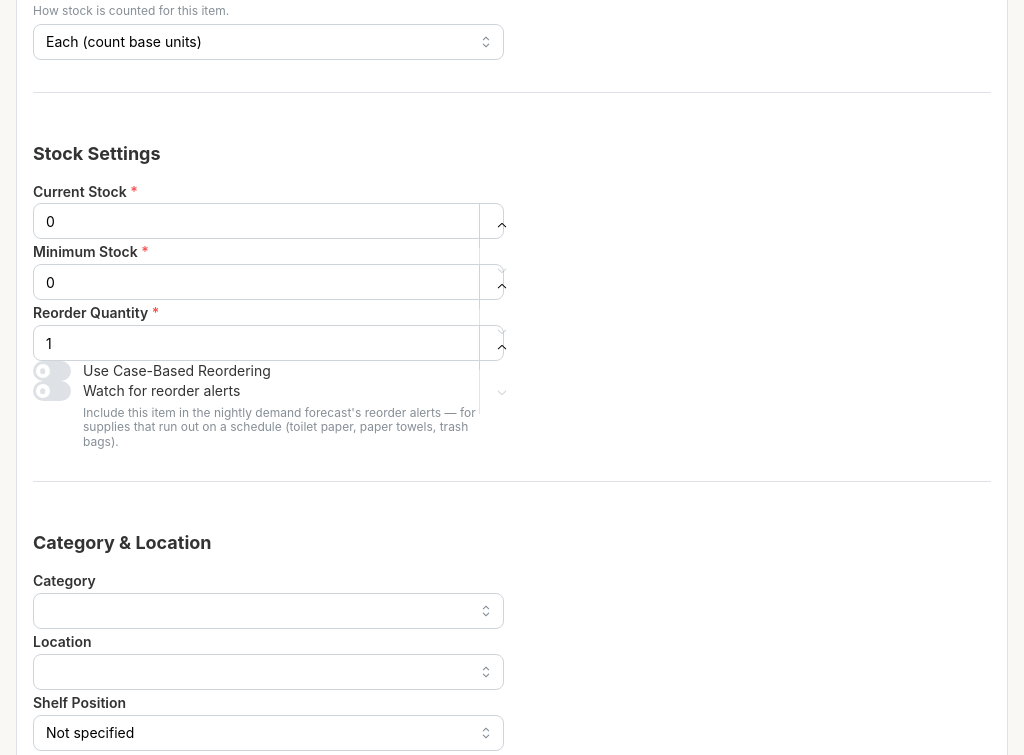
Test: InventoryItemFormPage › toggles case-based reordering
(page scrolled)
Click the switch labelled "Use Case-Based Reordering": [152, 371] box [33,361,271,381]
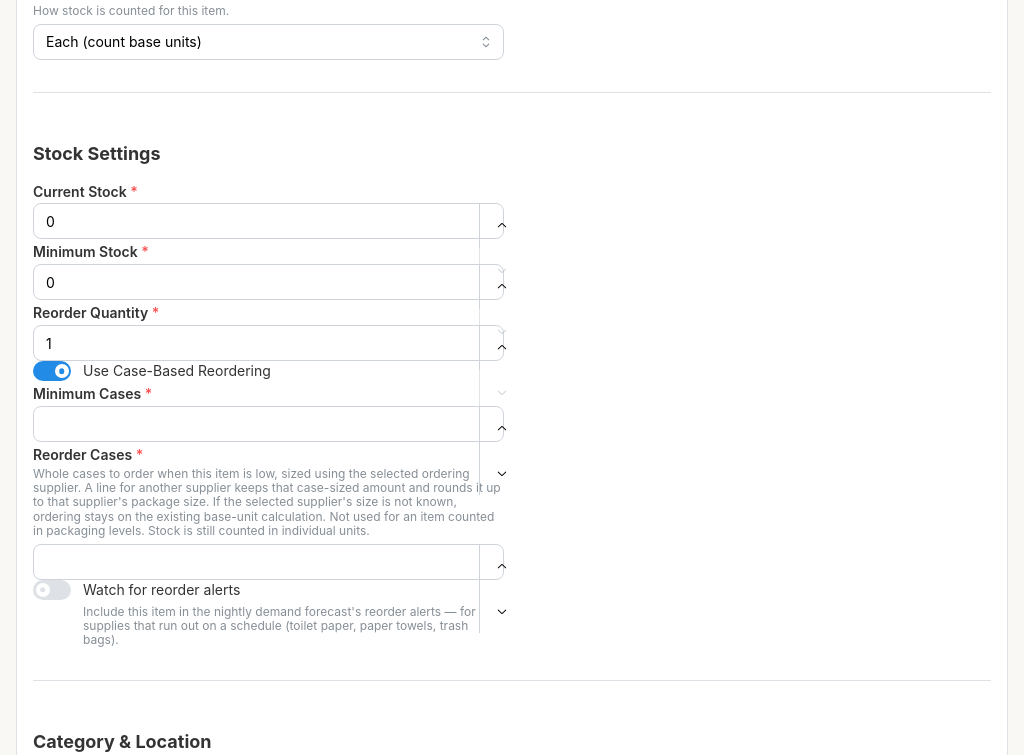
Expected: the field labelled "Minimum Cases *" is shown, [33,406,504,442]
